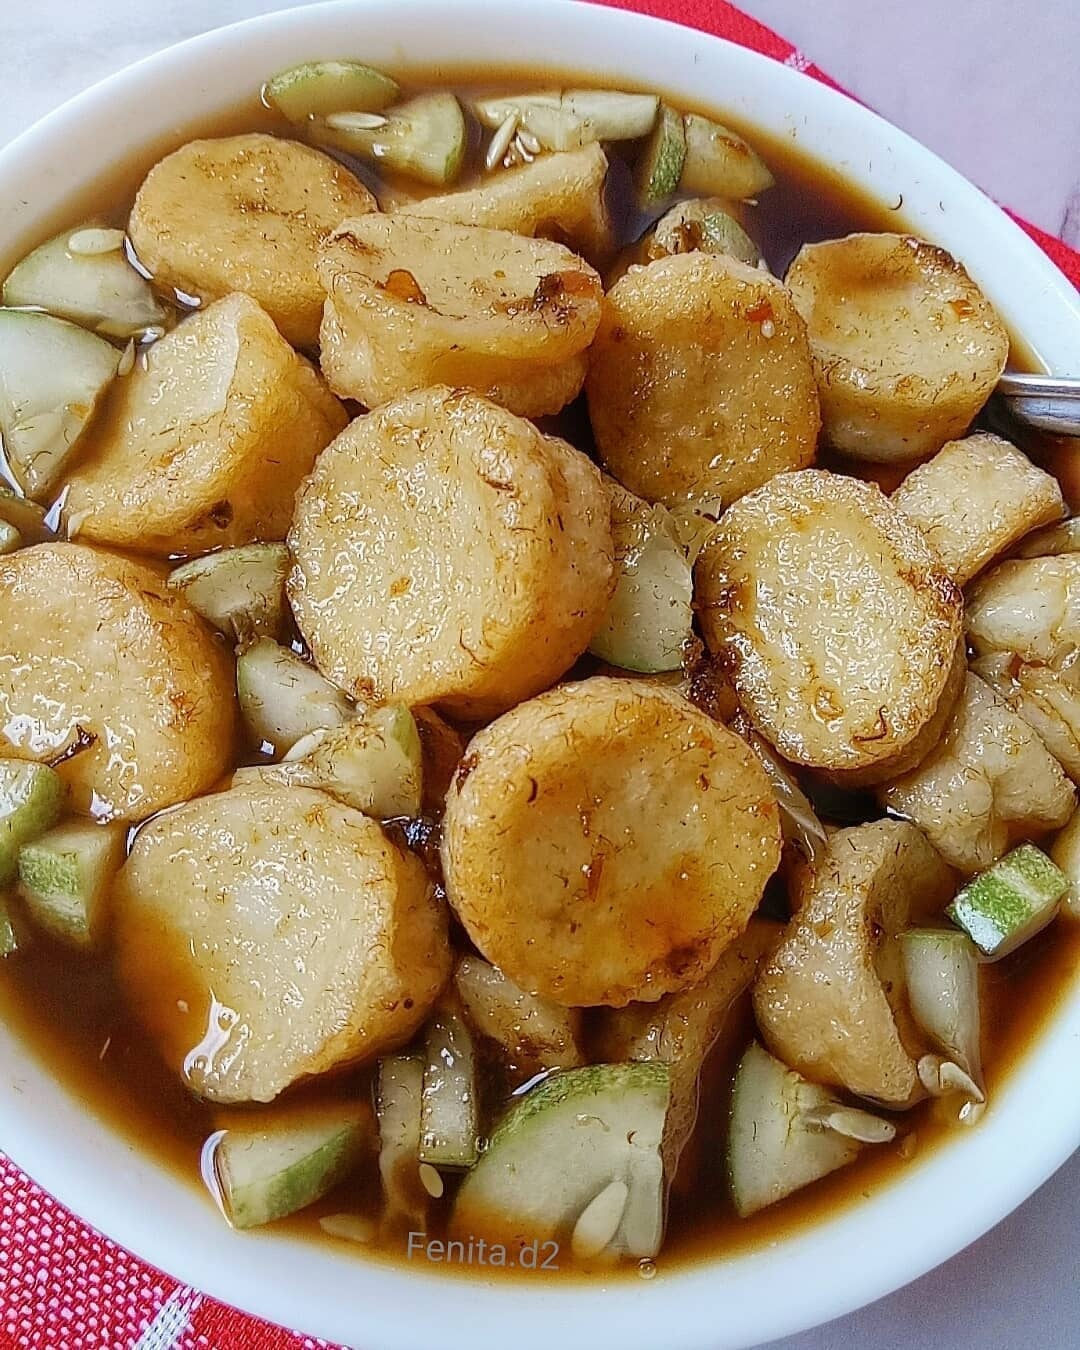pempek: (28, 46, 1001, 1170)
